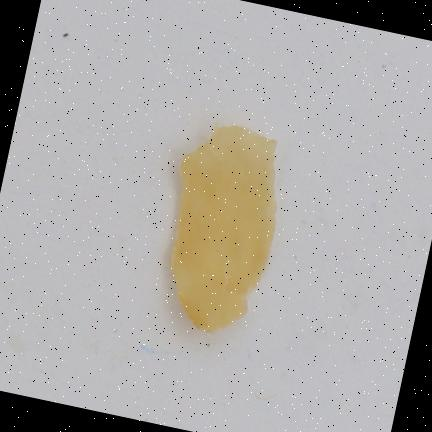parchment: (172, 127, 276, 332)
